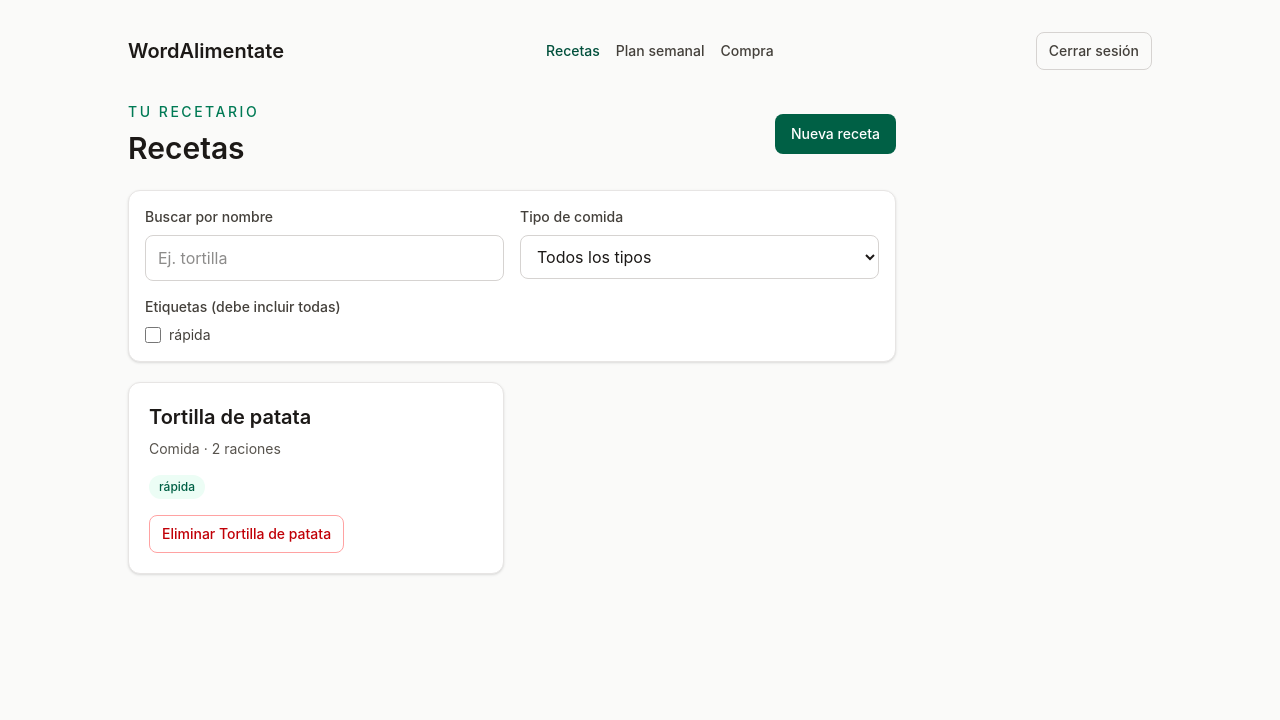
Test: recipe catalog › keeps the recipe visible and reports errors when deletion fails
This screenshot has width=1280, height=720.
Click the button "Eliminar Tortilla de patata": point(247, 534) x1=149 y1=515 x2=344 y2=553
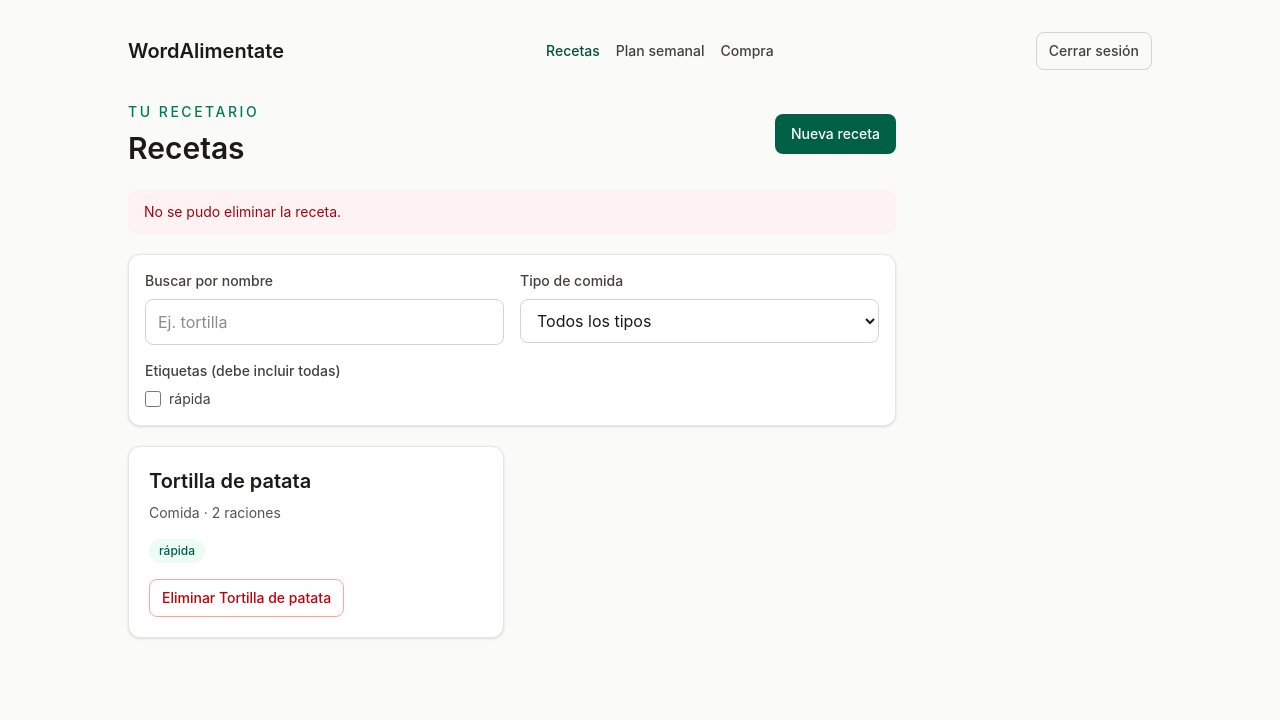
expect the heading "Tortilla de patata" is shown: met, box x1=149 y1=469 x2=311 y2=493
expect the message reads "No se pudo eliminar la receta.": met, box x1=144 y1=203 x2=341 y2=220
